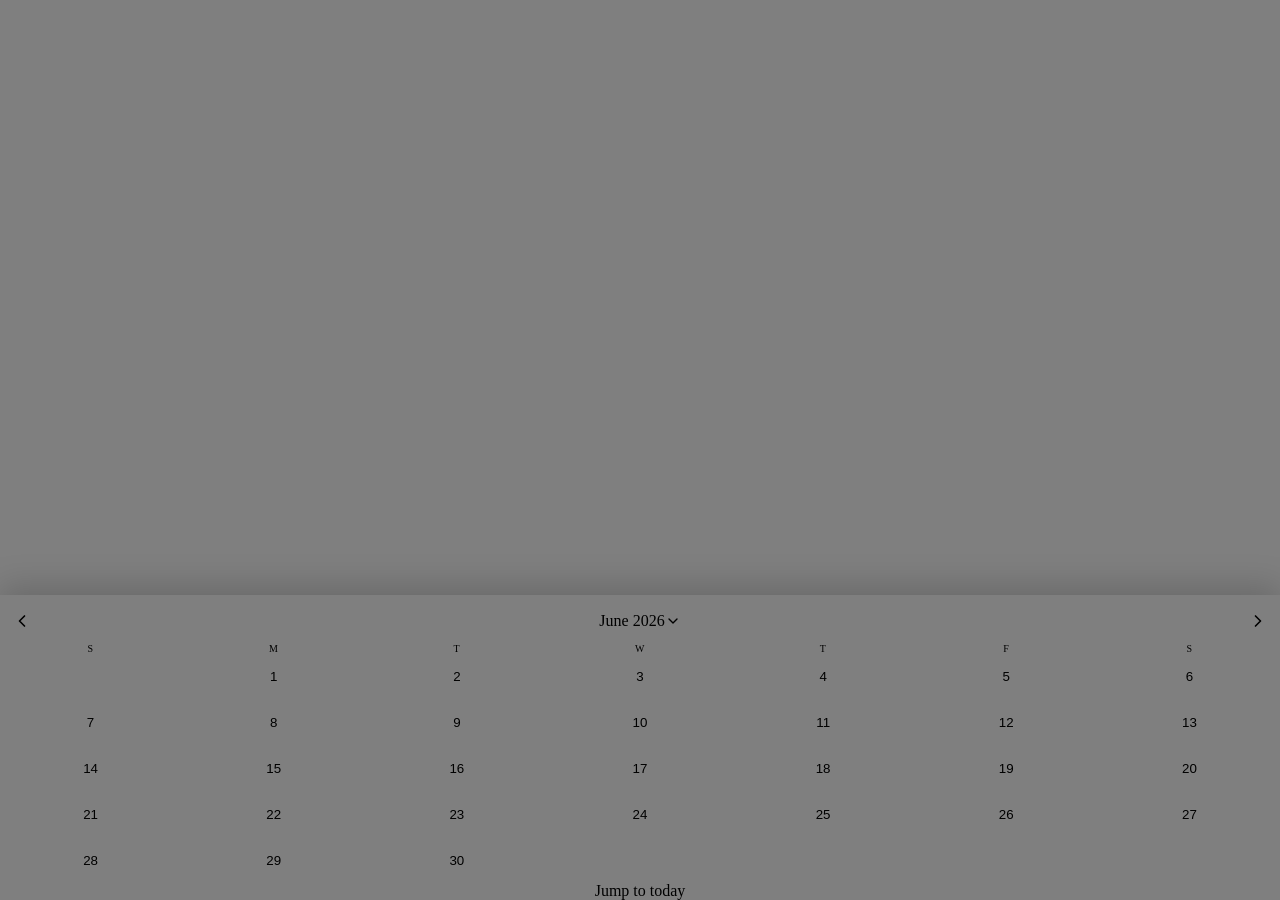
MobileDatePicker — quick month/year jump › opens the 12-month grid when the header title is tapped
Check: the button named "June 15, 2026" is shown, box [183,746,364,790]
Click the button with aria-label "choose month" at (640, 621), box [599,612,681,630]
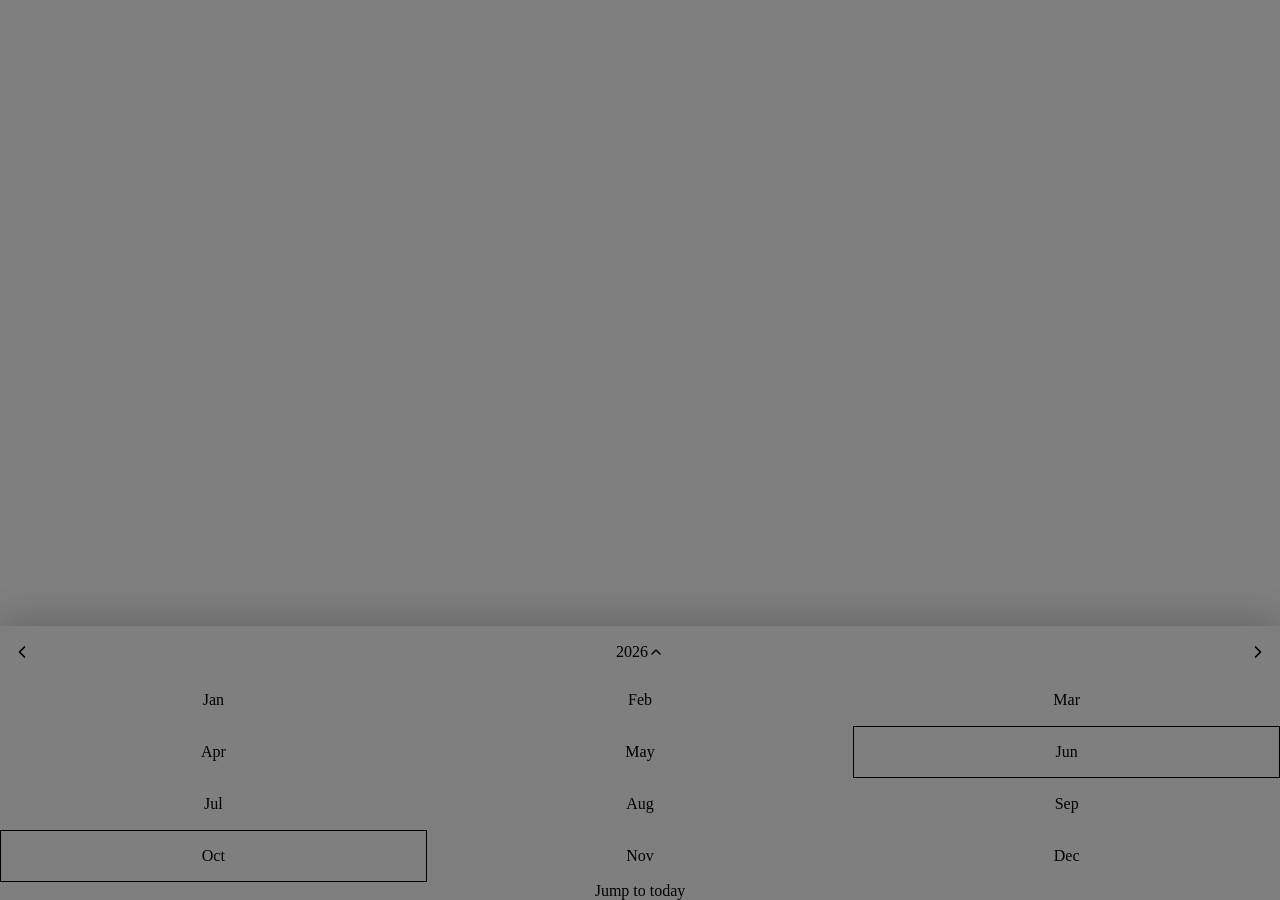
Check: the button with aria-label "January 2026" is shown, box [0,674,427,726]
Check: the button with aria-label "December 2026" is shown, box [853,830,1279,882]
